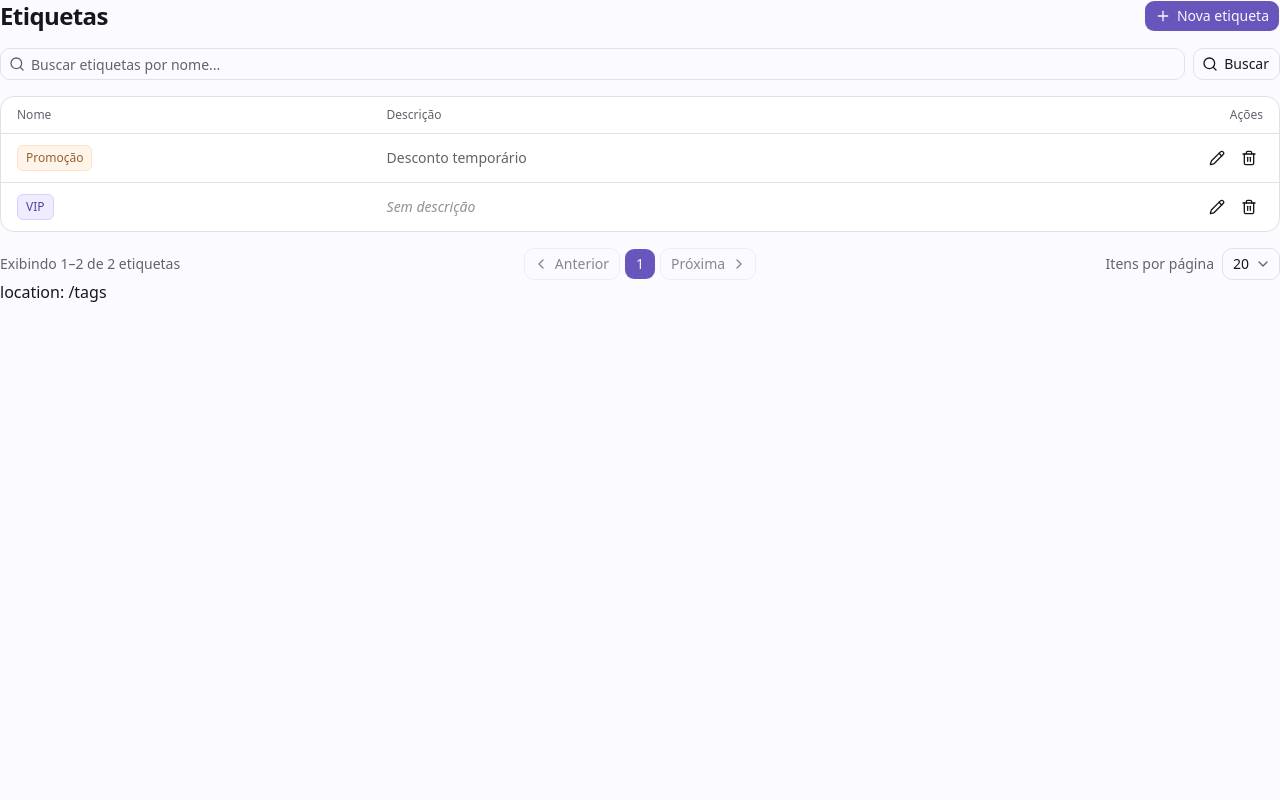
Test: TagListPage › keeps the newer search result even if the older, superseded request resolves later
Expected: the text "Promoção" is shown, [17, 145, 92, 171]
Type "vip" into the field labelled "Buscar etiquetas por nome" at (605,64), box [25, 48, 1184, 80]
Then press Enter
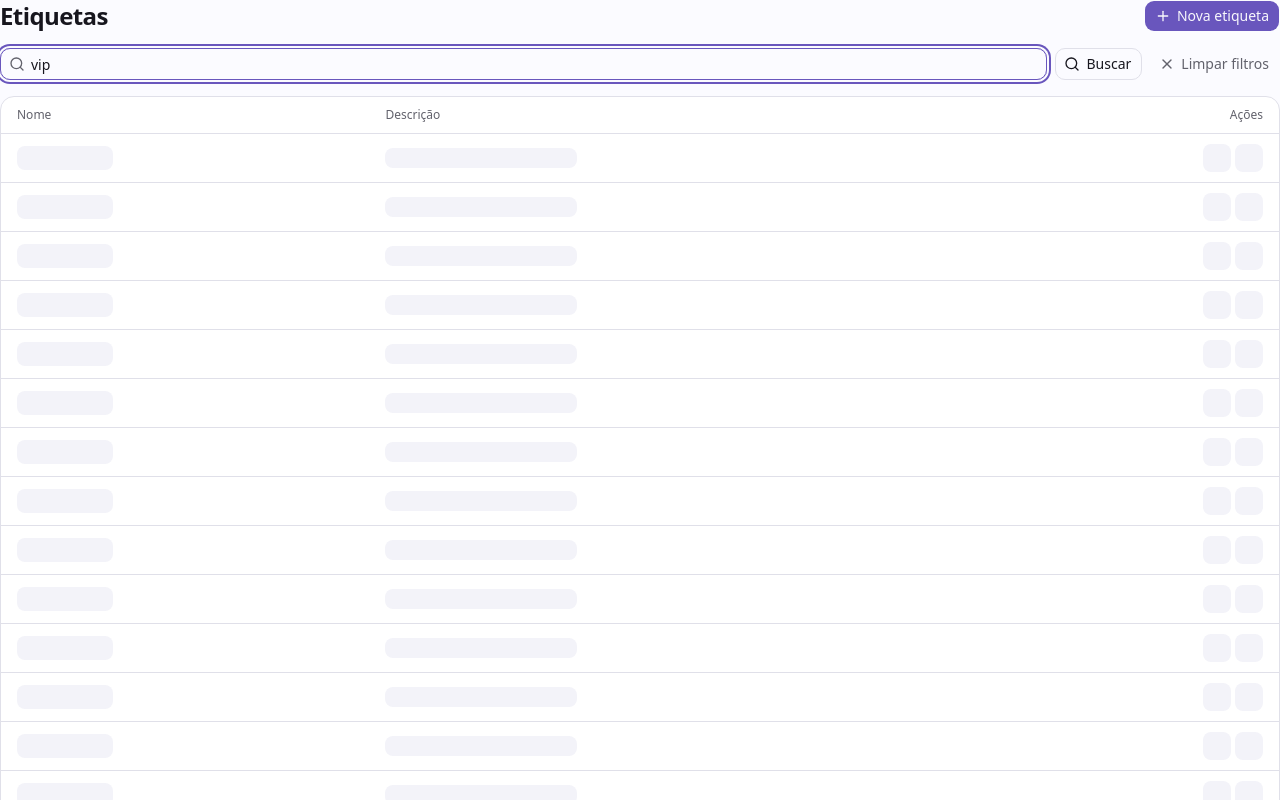
Replace the text in the field named "Buscar etiquetas por nome" with "promo" at (536,64), box [25, 48, 1046, 80]
Then press Enter
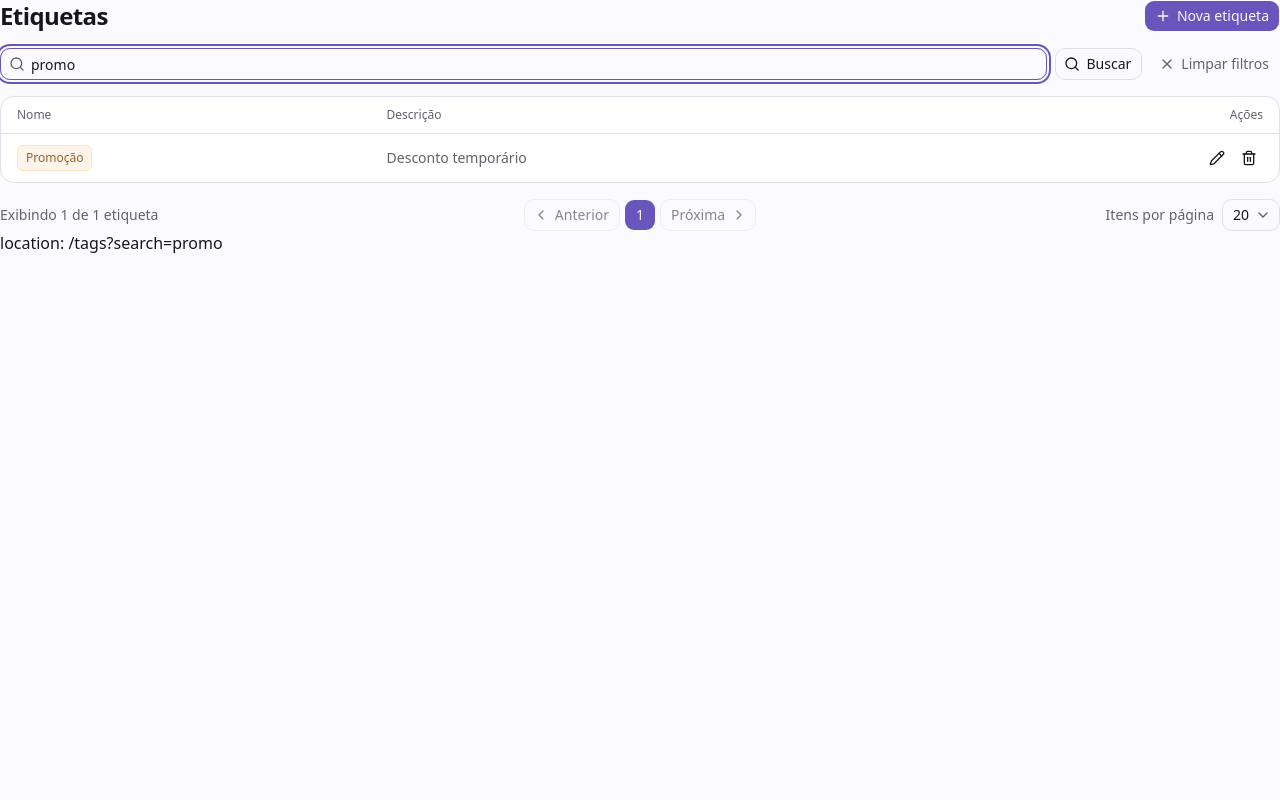
Expected: the text "Promoção" is shown, [17, 145, 92, 171]
